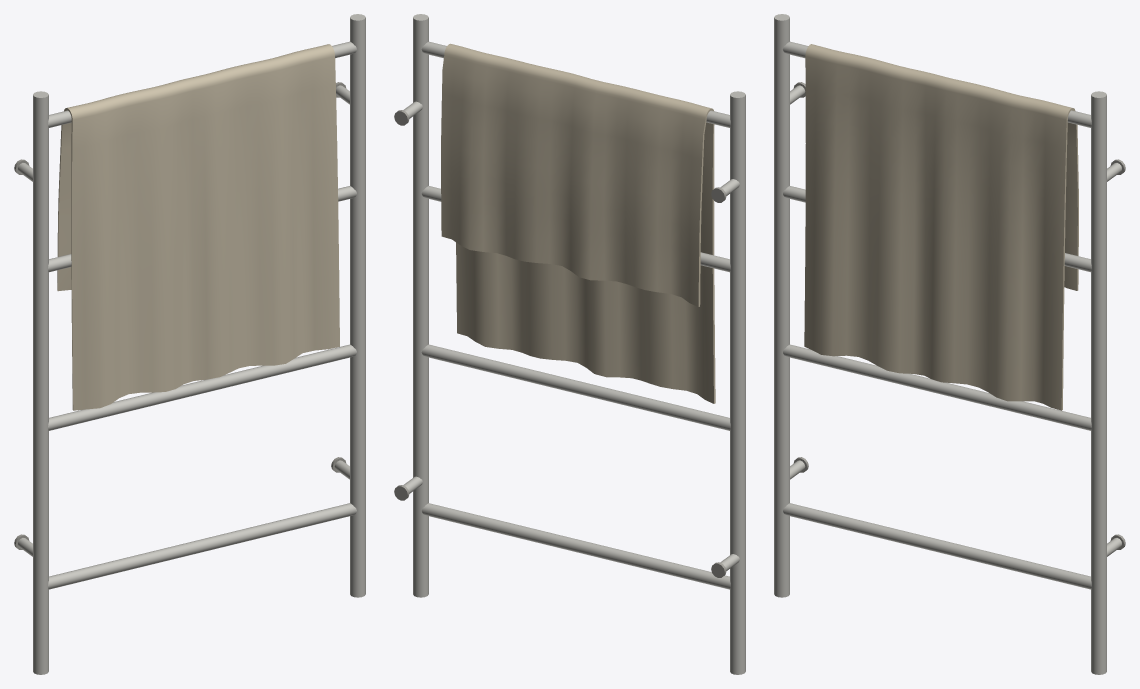
Rendered from towel-rail-efadd6631a3c.glb.
3 renders of one model, left to right at view 1: azimuth 30°, elevation 25°; view 2: azimuth 150°, elevation 25°; view 3: azimuth 330°, elevation 25°, orthographic.
Visible parts, largest first — view 1: cloth-cream, chrome; view 2: cloth-cream, chrome, brushed; view 3: cloth-cream, chrome.
Part boxes in pixels (box(x1,y1,x2,y2)): cloth-cream: box(57, 44, 339, 410); chrome: box(18, 14, 365, 674); cloth-cream: box(441, 43, 715, 403); chrome: box(403, 14, 745, 674); brushed: box(394, 110, 726, 577); cloth-cream: box(804, 44, 1078, 410); chrome: box(774, 14, 1121, 674).
Bounding box in the file's own units: 0.48 × 0.8 × 0.0758.
